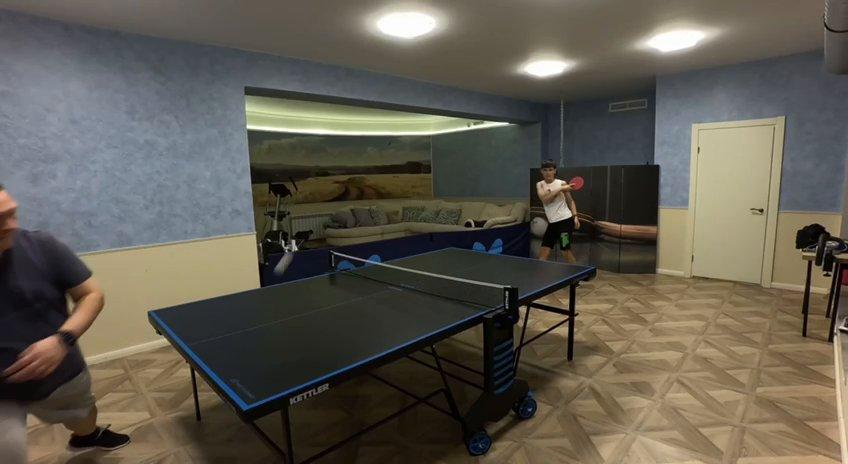Ball: (272, 252, 298, 278)
Net: (327, 251, 515, 308)
Player1: (535, 160, 579, 262)
Player2: (0, 184, 128, 463)
Table: (149, 247, 594, 409)
